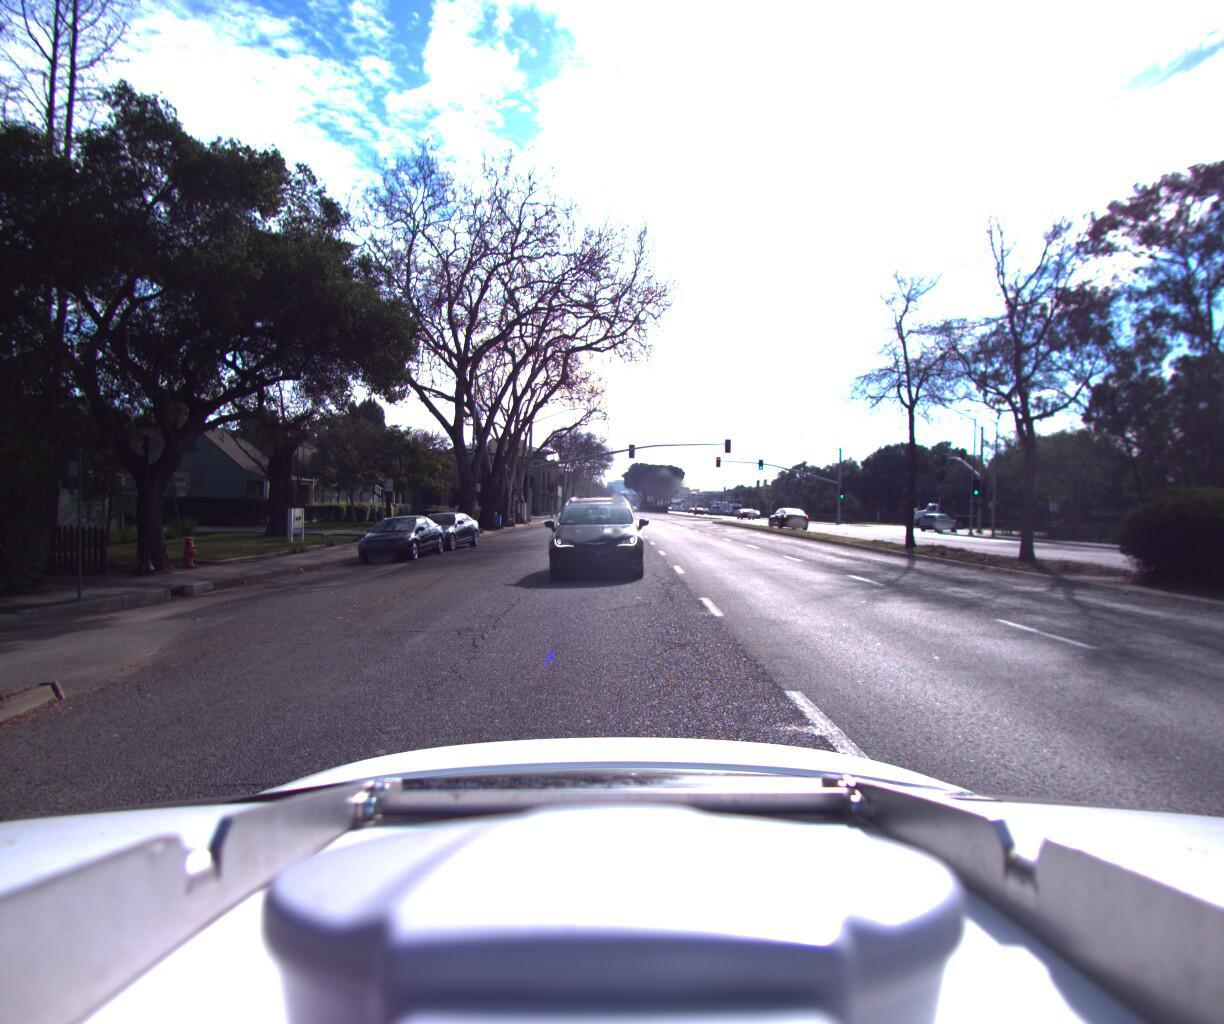car: (544, 488, 646, 579), (355, 506, 455, 558), (402, 506, 490, 550), (766, 502, 811, 527), (919, 509, 965, 530)
